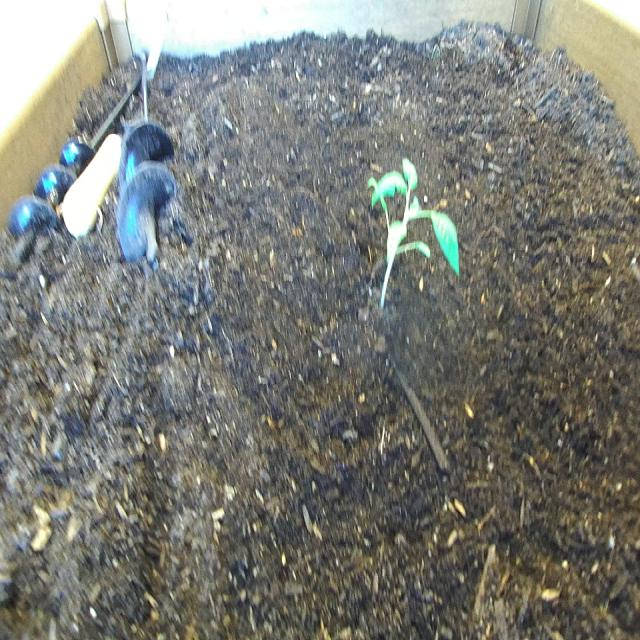Healthy: (362, 148, 467, 329)
